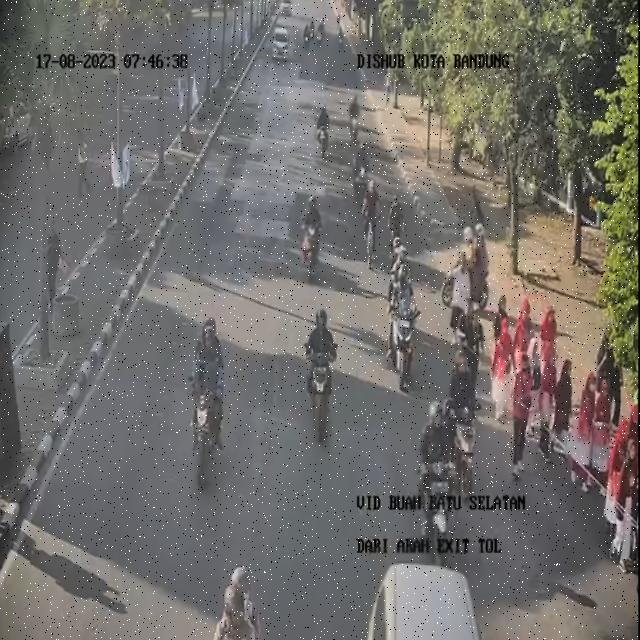cars: (369, 547, 481, 640)
motorcycle: (168, 309, 234, 482), (409, 393, 455, 565), (381, 261, 424, 378), (208, 557, 266, 638), (448, 220, 495, 306), (304, 308, 336, 432), (444, 355, 478, 468), (300, 192, 326, 280), (349, 138, 373, 208), (319, 94, 335, 155), (346, 90, 362, 136), (299, 21, 312, 52), (315, 21, 328, 52), (335, 30, 352, 52)
